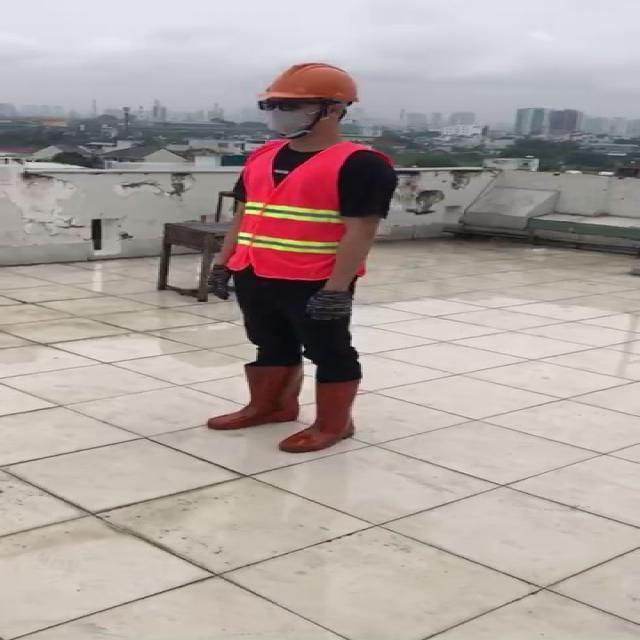gloves: (306, 278, 367, 324), (202, 263, 237, 305)
helmet: (250, 58, 366, 114)
safety_vest: (238, 138, 350, 282)
